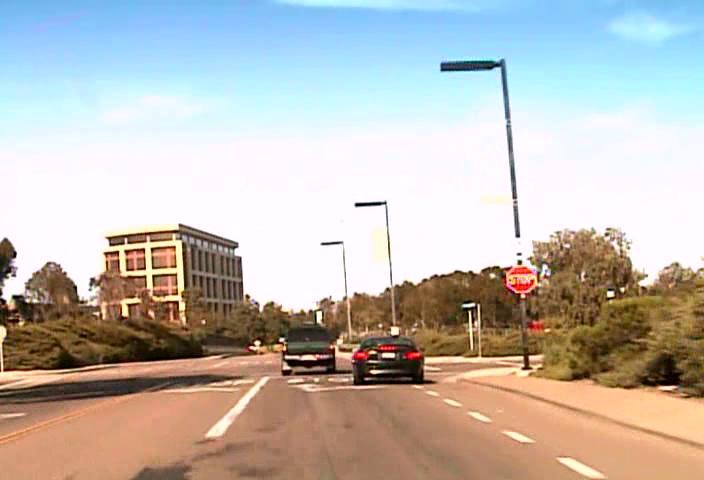stop: (505, 264, 537, 294)
